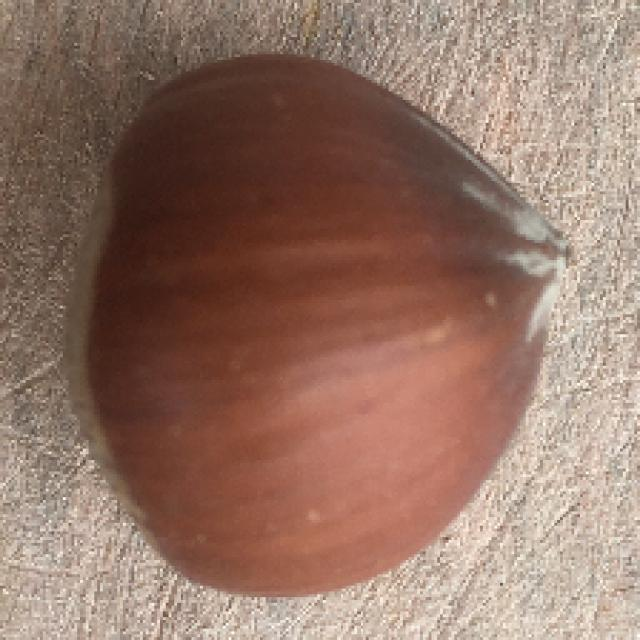qualityHazelnut: (64, 45, 577, 594)
